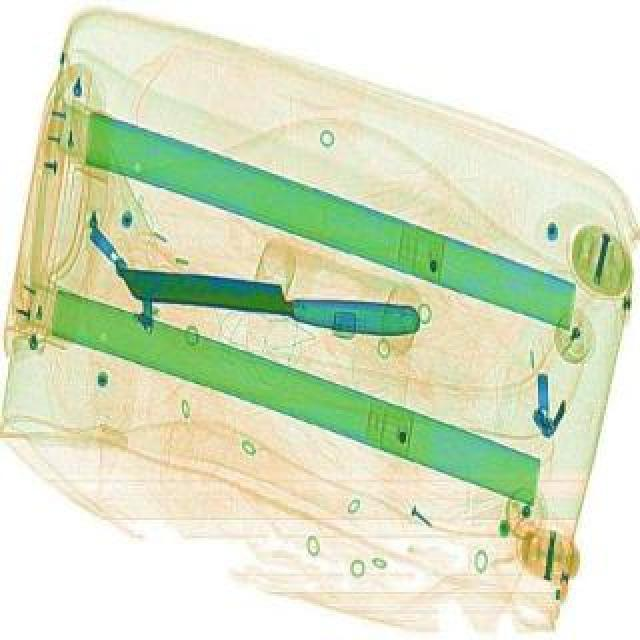knife: (118, 264, 422, 338)
